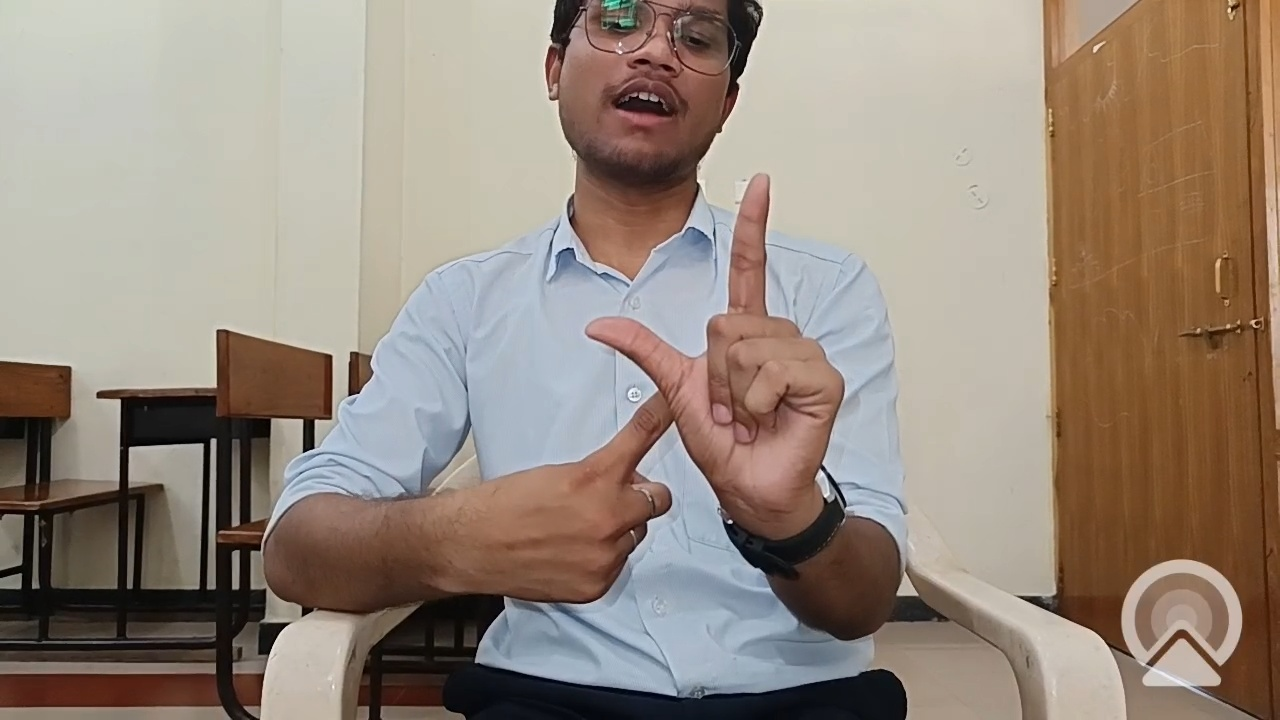Y: (395, 155, 892, 623)
